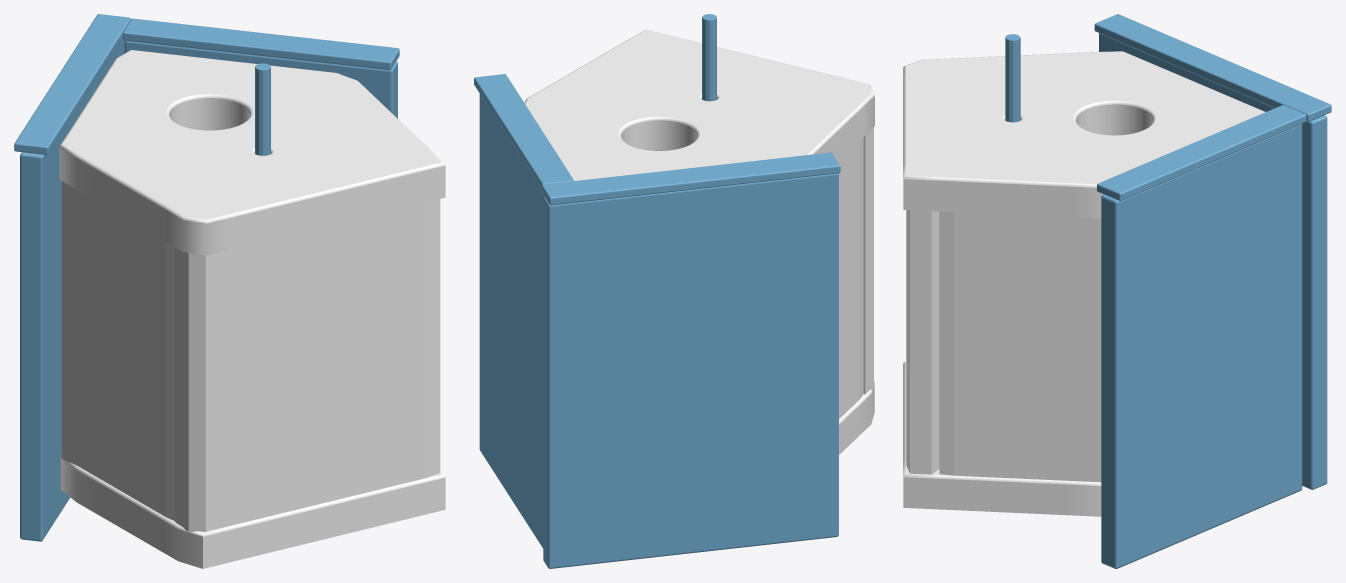
File: Bird+house.fbx
3 views of the same model, side by side, from view 1: azimuth 30°, elevation 25°; view 2: azimuth 150°, elevation 25°; view 3: azimuth 270°, elevation 25° (orthographic). The views are drawn at different scales.
Visible parts, largest first — view 1: imagetostl_mesh11, imagetostl_mesh16, imagetostl_mesh5, imagetostl_mesh2, imagetostl_mesh14, imagetostl_mesh18, imagetostl_mesh1, imagetostl_mesh0, imagetostl_mesh3, imagetostl_mesh15, imagetostl_mesh19, imagetostl_mesh4; view 2: imagetostl_mesh2, imagetostl_mesh16, imagetostl_mesh3, imagetostl_mesh0, imagetostl_mesh5, imagetostl_mesh1, imagetostl_mesh14, imagetostl_mesh11, imagetostl_mesh15, imagetostl_mesh4, imagetostl_mesh18; view 3: imagetostl_mesh3, imagetostl_mesh8, imagetostl_mesh16, imagetostl_mesh2, imagetostl_mesh11, imagetostl_mesh14, imagetostl_mesh18, imagetostl_mesh0, imagetostl_mesh1, imagetostl_mesh15, imagetostl_mesh4, imagetostl_mesh19.
Boxes of the visible parts, x1,y1,x2,y2 form: imagetostl_mesh11: (175,199,440,532); imagetostl_mesh16: (63,50,441,219); imagetostl_mesh5: (62,181,175,520); imagetostl_mesh2: (20,38,124,541); imagetostl_mesh14: (59,98,445,255); imagetostl_mesh18: (60,458,445,568); imagetostl_mesh1: (123,18,399,69); imagetostl_mesh0: (14,14,131,154); imagetostl_mesh3: (124,40,397,118); imagetostl_mesh15: (59,50,445,223); imagetostl_mesh19: (60,455,445,536); imagetostl_mesh4: (255,63,270,155); imagetostl_mesh2: (543,173,838,568); imagetostl_mesh16: (525,30,871,180); imagetostl_mesh3: (479,94,544,548); imagetostl_mesh0: (541,152,840,205); imagetostl_mesh5: (838,137,863,418); imagetostl_mesh1: (474,74,574,189); imagetostl_mesh14: (621,96,874,161); imagetostl_mesh11: (655,127,873,394); imagetostl_mesh15: (524,29,874,154); imagetostl_mesh4: (702,14,716,101); imagetostl_mesh18: (839,382,874,454); imagetostl_mesh3: (1101,124,1302,568); imagetostl_mesh8: (939,211,1101,482); imagetostl_mesh16: (906,51,1264,183); imagetostl_mesh2: (1099,33,1327,489); imagetostl_mesh11: (906,210,939,474); imagetostl_mesh14: (903,104,1152,218); imagetostl_mesh18: (903,477,1101,516); imagetostl_mesh0: (1094,14,1331,121); imagetostl_mesh1: (1097,105,1306,200); imagetostl_mesh15: (903,51,1265,187); imagetostl_mesh4: (1005,34,1020,122); imagetostl_mesh19: (903,362,1101,485).
Bounding box in the file's own units: 22038 × 25388 × 22168.
